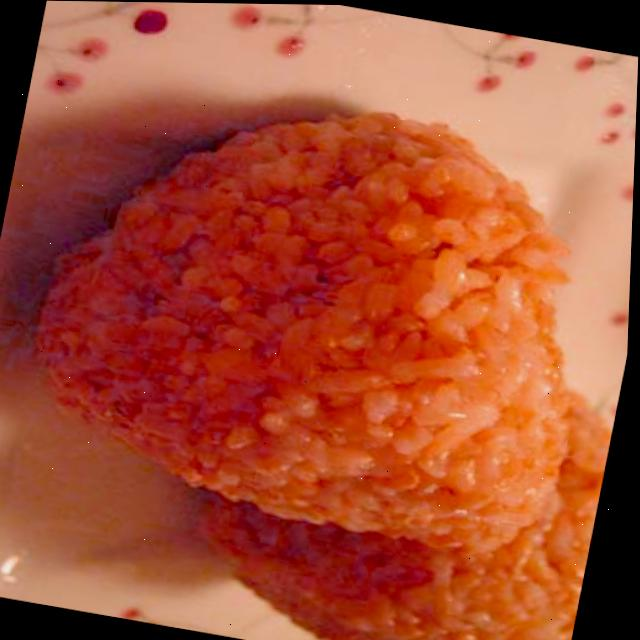米饭主食: (15, 63, 638, 575), (199, 318, 626, 640)
